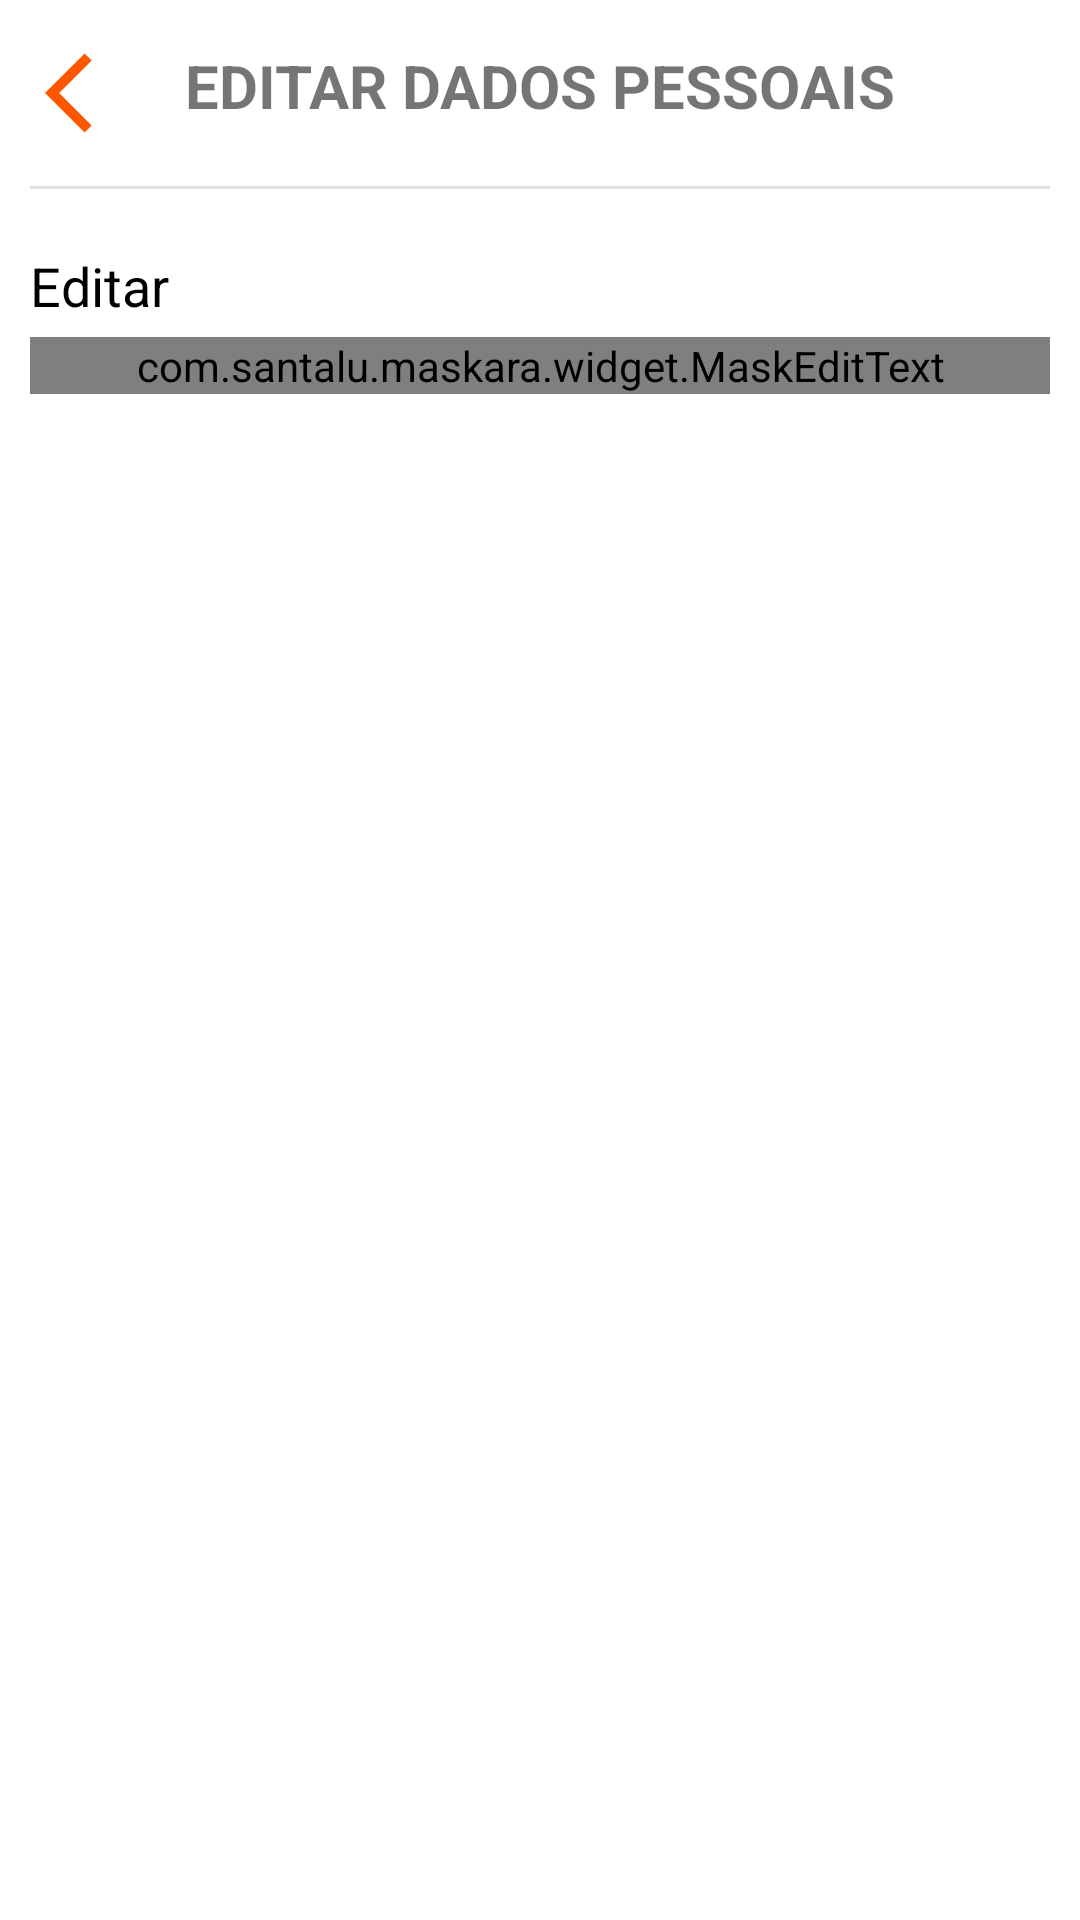

Point at icon controls on the screen. Image size 1080px×1920px, points as (x=x, y=y).
back: (x=68, y=93)
